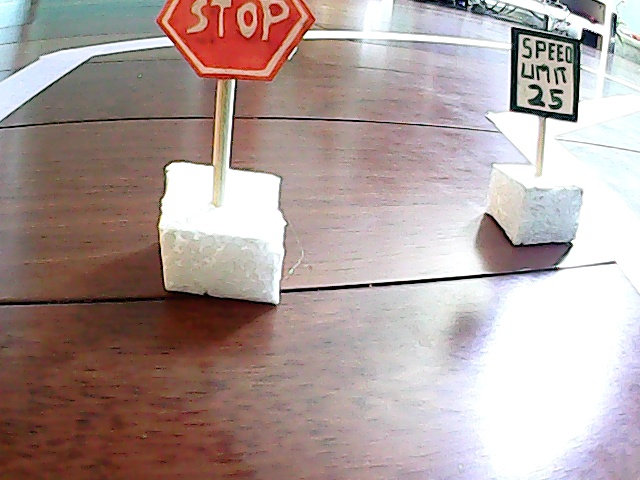speed_25: (487, 21, 590, 248)
stop: (157, 1, 304, 307)
